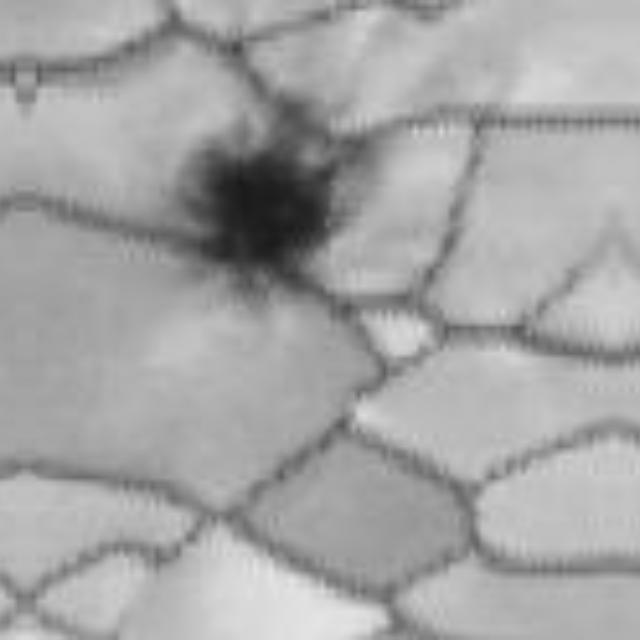good_void: (178, 125, 346, 311)
